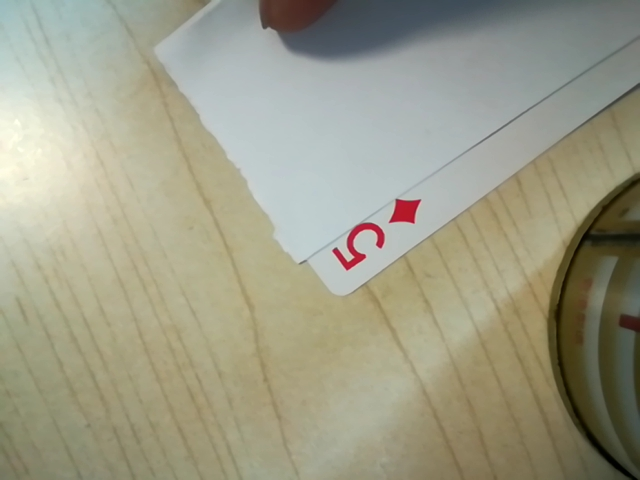fk 5: (322, 196, 423, 280)
